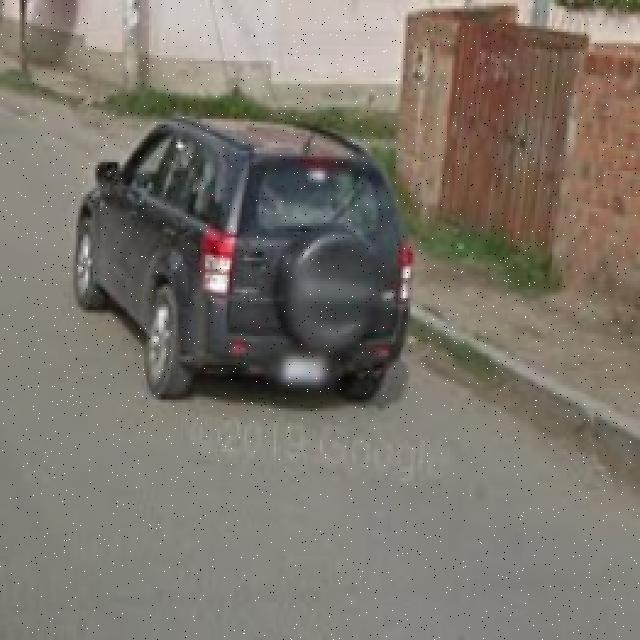cars: (72, 100, 408, 416)
